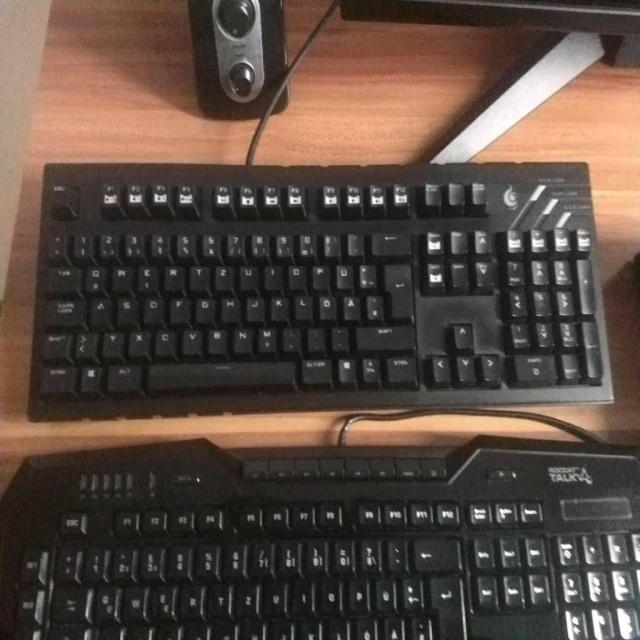keyboard: (22, 155, 621, 427), (8, 469, 639, 638)
